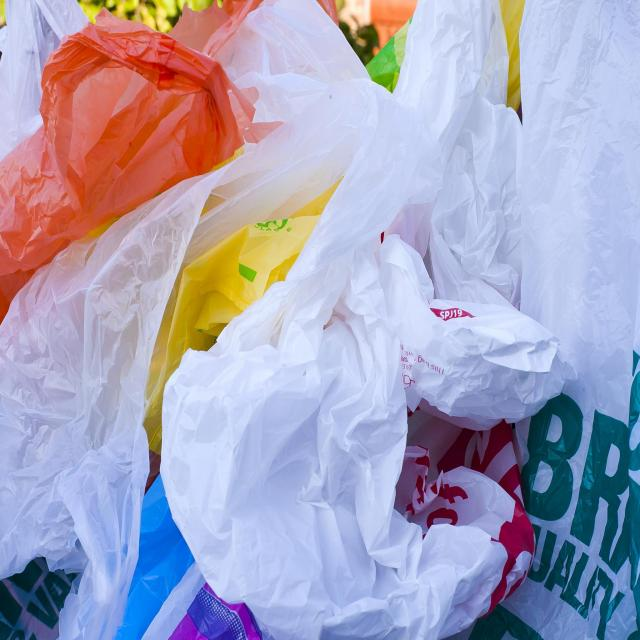plastic_bag: (171, 248, 543, 636), (10, 239, 156, 628), (338, 213, 582, 436), (10, 10, 256, 216)
